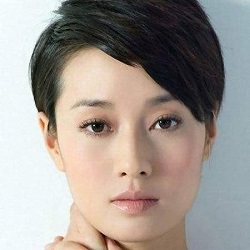unmask: (42, 71, 211, 247)
